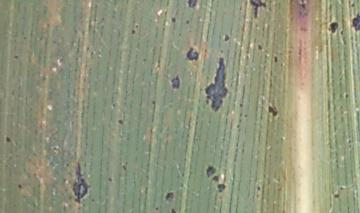tarspot: (203, 57, 229, 113), (72, 159, 92, 205), (248, 1, 266, 19), (349, 11, 360, 33), (185, 47, 200, 63), (170, 73, 181, 90), (327, 21, 339, 36), (266, 105, 279, 117), (205, 165, 217, 178), (163, 190, 175, 202), (216, 183, 227, 194), (186, 1, 199, 9), (211, 174, 221, 183), (4, 134, 13, 143), (222, 33, 230, 43), (300, 1, 306, 12), (16, 182, 24, 189), (116, 118, 124, 125), (343, 93, 351, 100), (256, 42, 262, 51), (169, 207, 178, 213), (170, 16, 177, 23), (130, 29, 137, 36), (333, 192, 340, 199), (120, 164, 126, 172), (238, 101, 244, 109), (350, 1, 356, 9), (243, 111, 248, 120), (107, 176, 113, 183), (183, 19, 190, 25), (150, 99, 156, 106), (12, 54, 19, 60), (256, 184, 262, 191), (273, 55, 278, 63), (154, 206, 160, 211)
